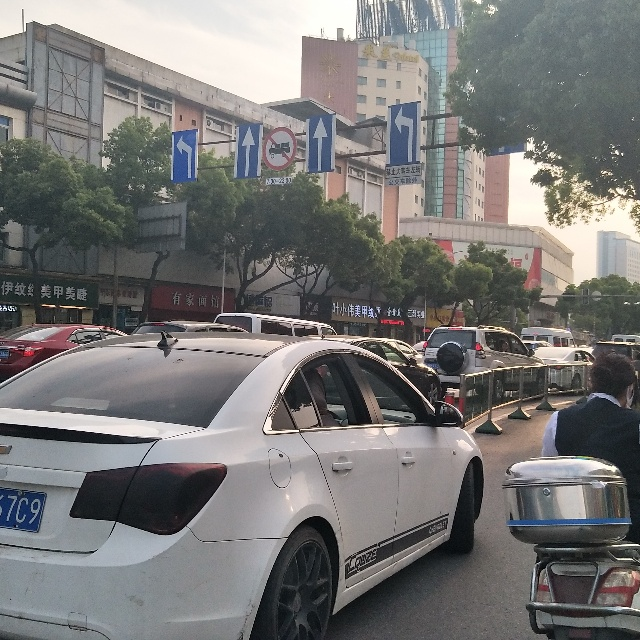left: (387, 101, 418, 167), (170, 129, 199, 181)
straight: (305, 114, 336, 173), (235, 124, 262, 179)
